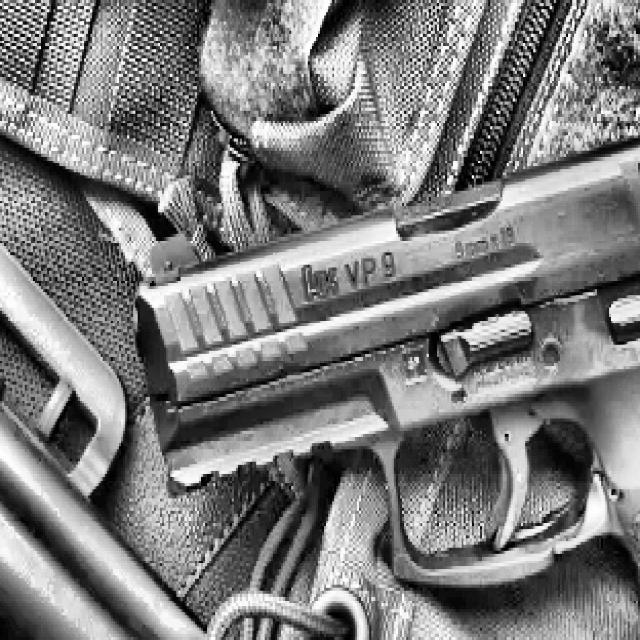Heckler - Koch -H-K-: (115, 55, 640, 640)
